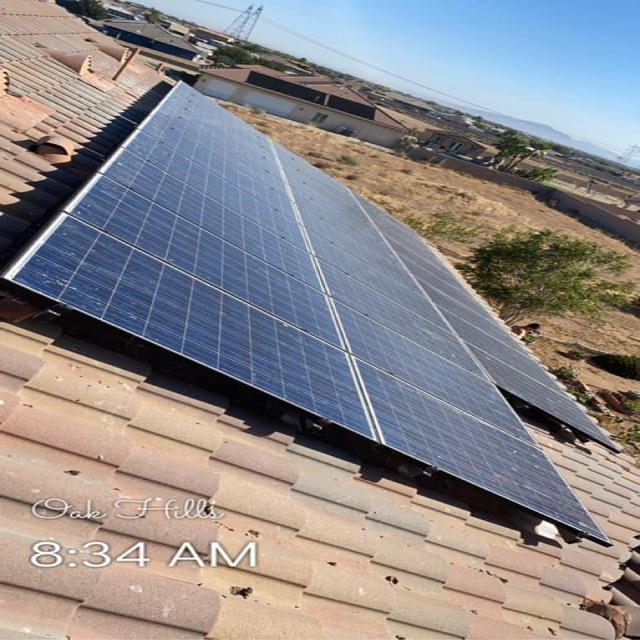Surface Contaminant: (9, 80, 614, 540)
